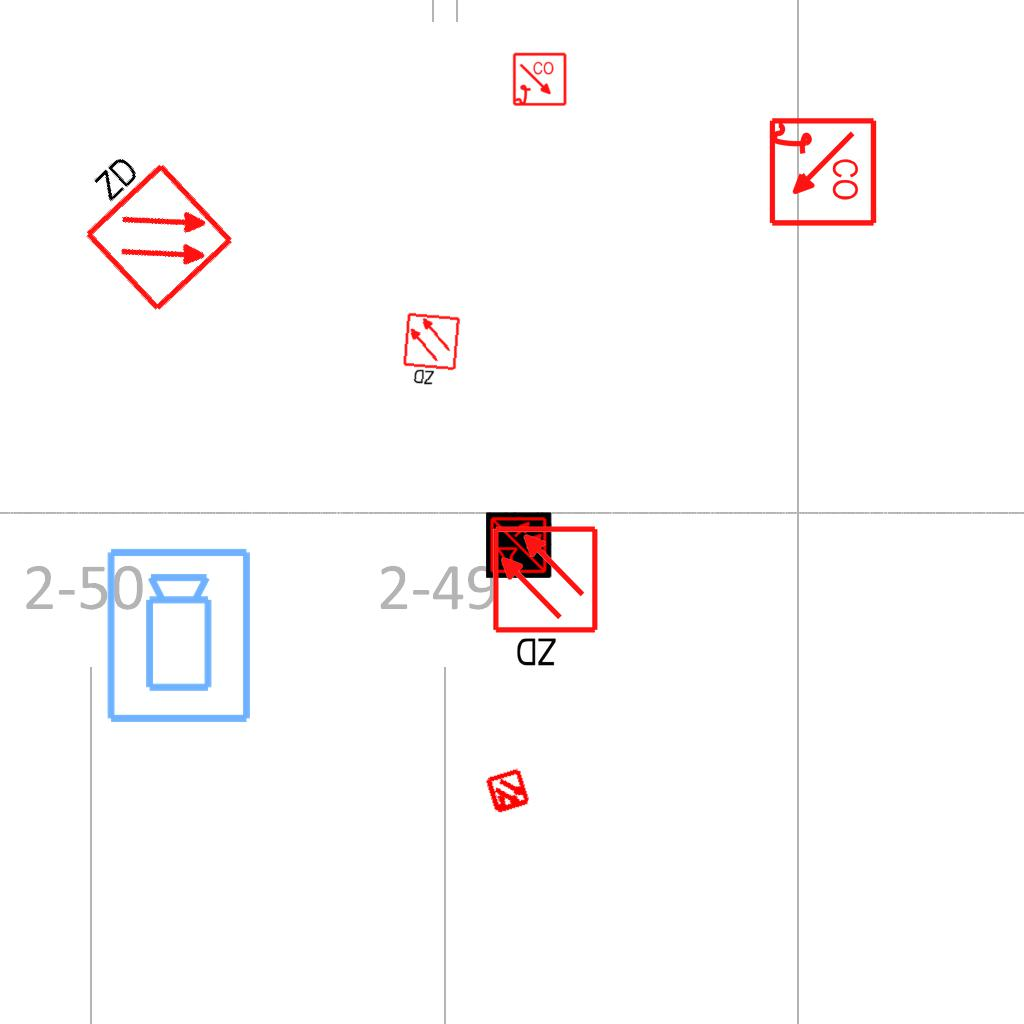KFO_Kamera_mit_Festobjektiv: (103, 545, 257, 727)
OKW_Multisensormelder_(Kombination_optischer_Rauch-Kahlenmonoxid_Waerme-Melder): (486, 512, 552, 578)
OT_Multisensormelder_(Kombination_RMO_WMD): (473, 757, 543, 827)
ROA_Rauchmelder_optisch_mit_Signalgeber_(Sockelsirene): (765, 116, 878, 229), (512, 52, 568, 108)
ZD_Melder_in_Zwischendecke_mit_Revisionsoeffnung_mind_40_x_40_cm: (52, 131, 238, 318), (490, 524, 604, 673), (399, 311, 464, 391)
